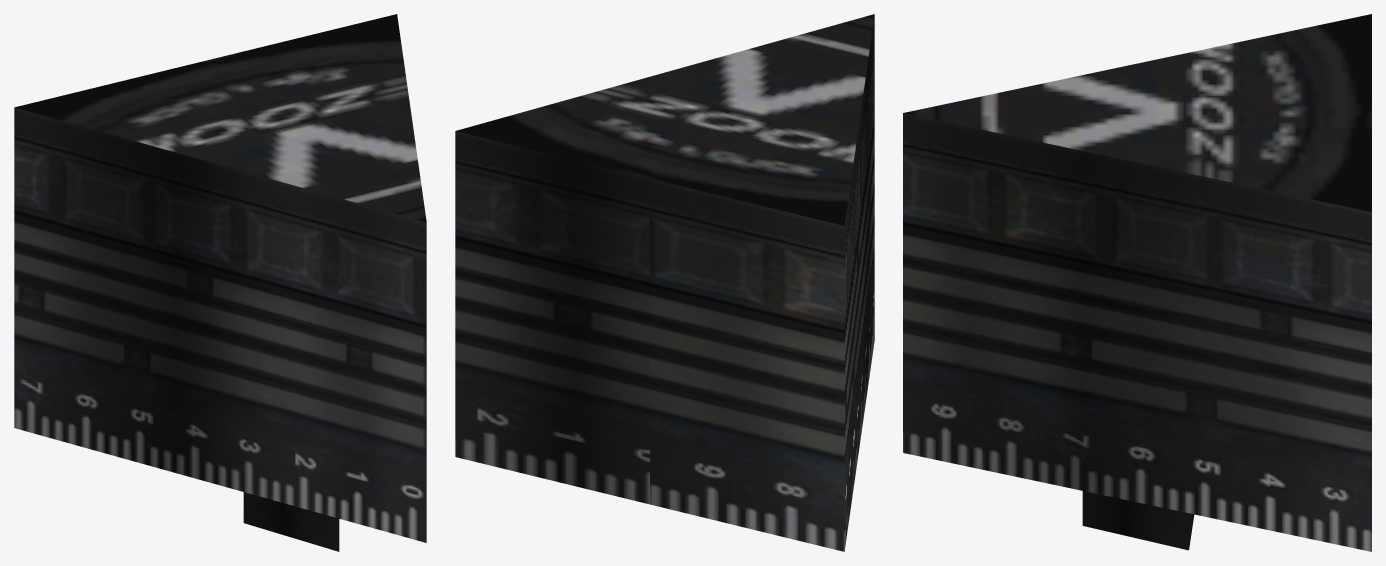
File: t6_attach_optic_vzoom_ballista_world_LOD2.obj
3 renders of one model, left to right at view 1: azimuth 30°, elevation 25°; view 2: azimuth 150°, elevation 25°; view 3: azimuth 270°, elevation 25°, orthographic. The views are drawn at different scales.
Visible parts, largest first — view 1: mtl_t6_attach_optic_vzoom_ballista; view 2: mtl_t6_attach_optic_vzoom_ballista; view 3: mtl_t6_attach_optic_vzoom_ballista.
Part boxes in pixels (<box>): mtl_t6_attach_optic_vzoom_ballista: <box>14,14,426,551</box>; mtl_t6_attach_optic_vzoom_ballista: <box>455,14,874,551</box>; mtl_t6_attach_optic_vzoom_ballista: <box>903,14,1371,551</box>.
Size of the model in its own units: 3.39 by 3.31 by 3.39.
